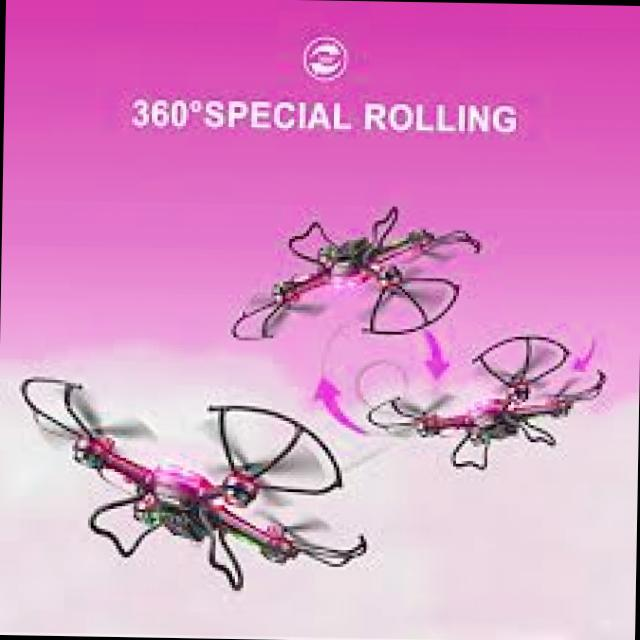drone: (14, 350, 378, 617), (356, 319, 616, 487), (233, 206, 484, 347)
